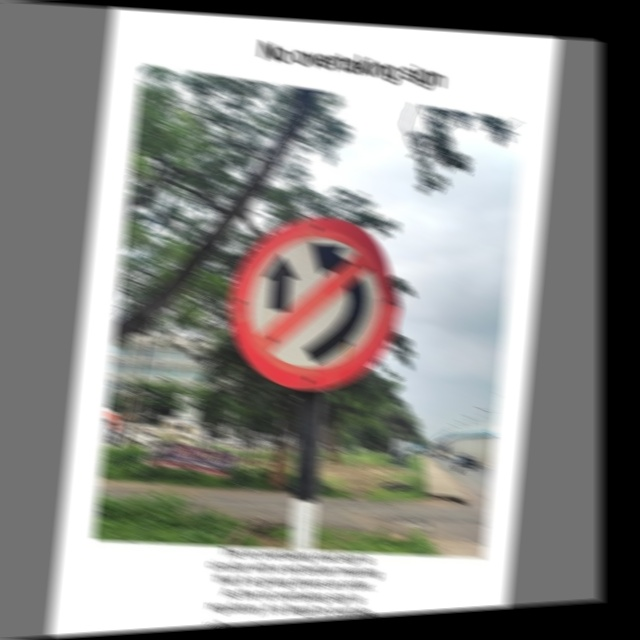Overtaking_Prohibited: (226, 204, 404, 400)
